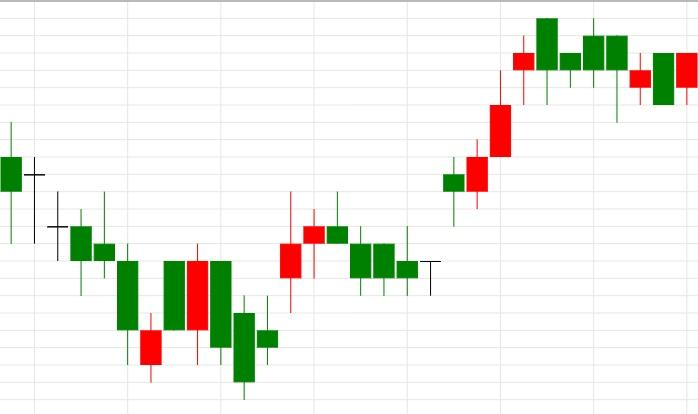bearish_engulfing_fall: (419, 18, 558, 296)
